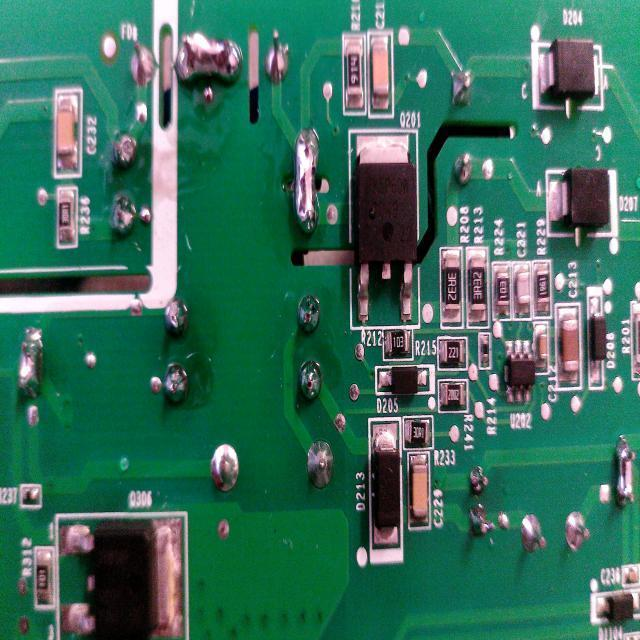Soldering shorted: (170, 26, 245, 100), (288, 117, 324, 240), (12, 328, 44, 411), (610, 426, 636, 524)
